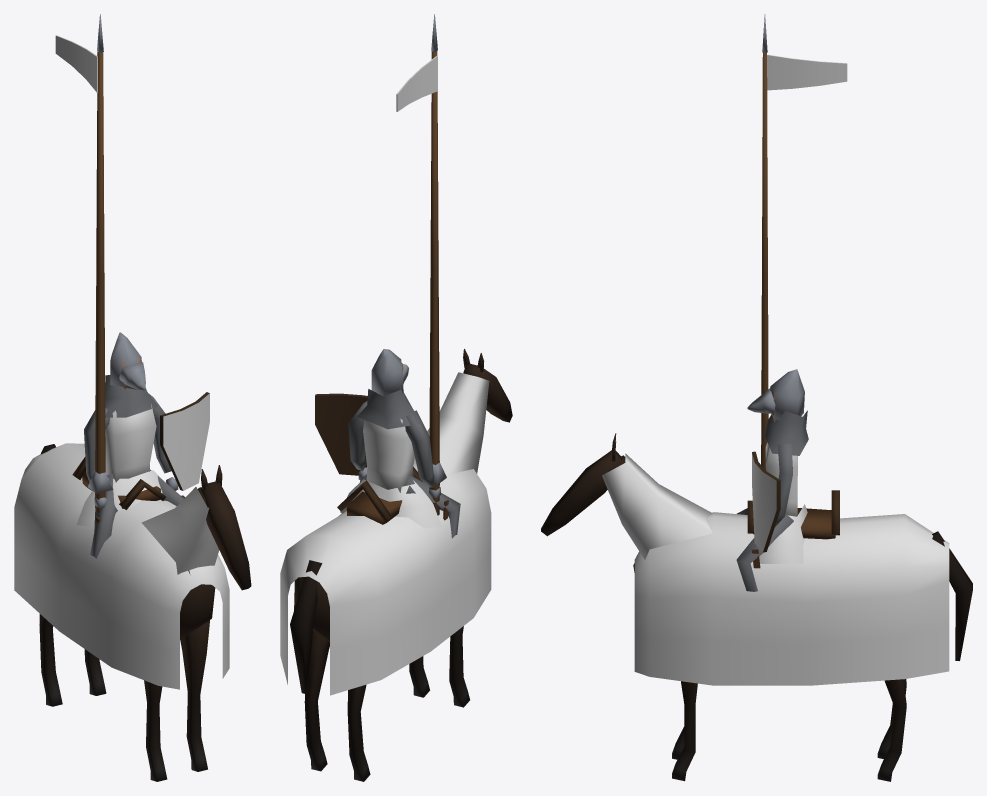
The model's file is cavalry_0_far.glb.
3 views of the same model, side by side, from view 1: azimuth 30°, elevation 25°; view 2: azimuth 150°, elevation 25°; view 3: azimuth 270°, elevation 25° (orthographic).
Visible parts, largest first — view 1: cavalry_0_far; view 2: cavalry_0_far; view 3: cavalry_0_far.
Boxes of the visible parts, x1=… form: cavalry_0_far: x1=14, y1=14, x2=251, y2=781; cavalry_0_far: x1=280, y1=14, x2=512, y2=781; cavalry_0_far: x1=541, y1=14, x2=972, y2=781.
Bounding box in the file's own units: 0.9372 × 4.94 × 2.62.
